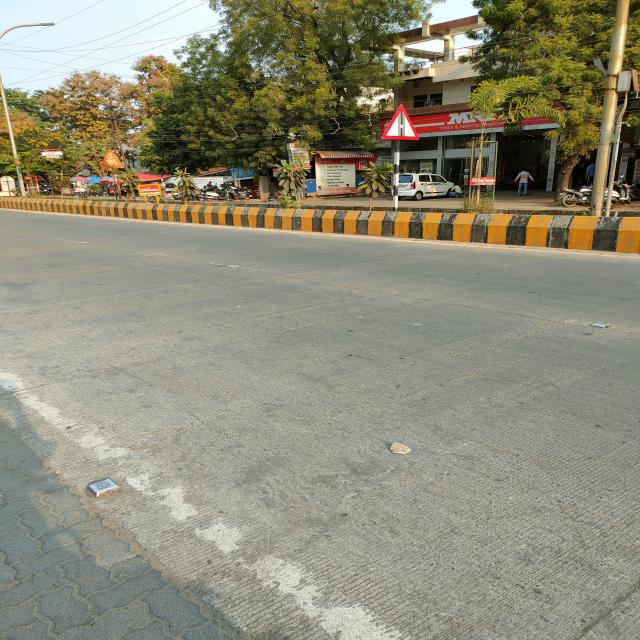GAP_IN_MEDIAN: (381, 104, 421, 140)
